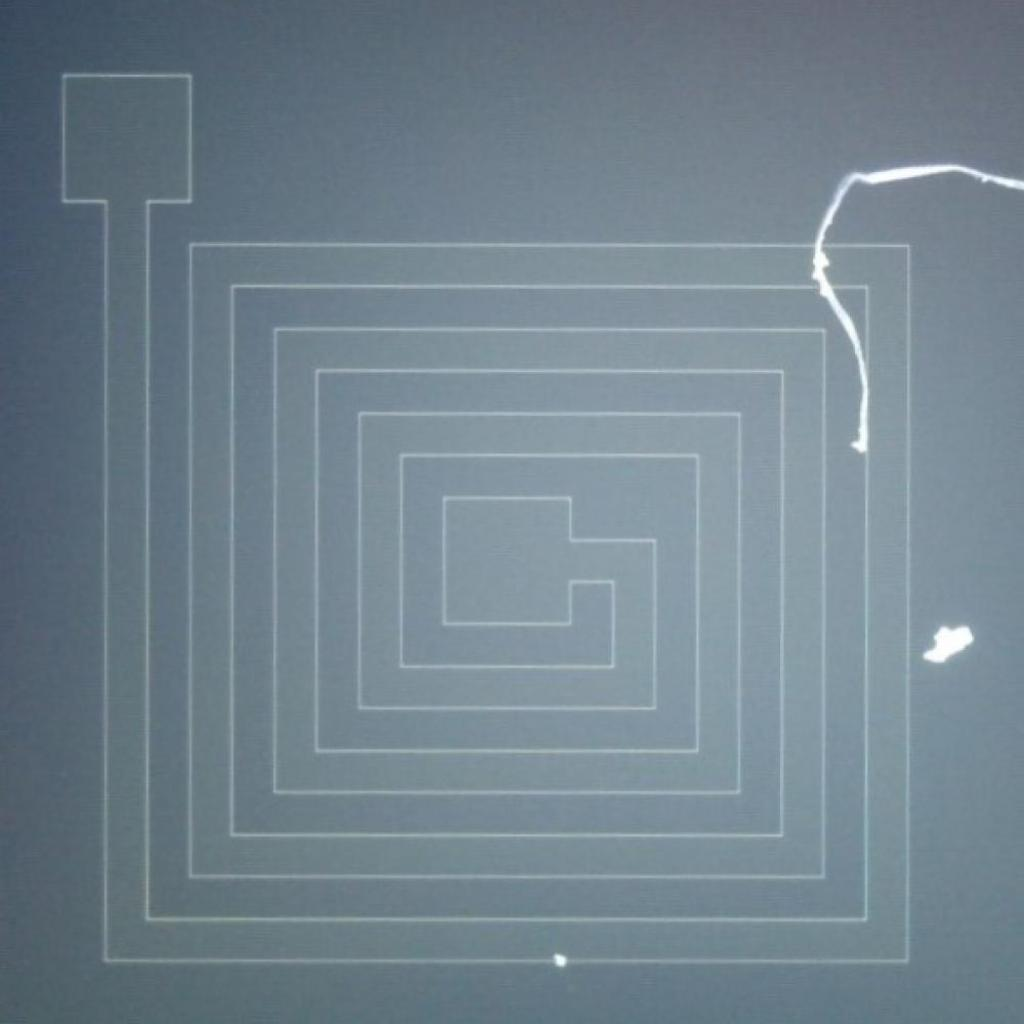Bdot: (934, 626, 968, 662)
curve: (816, 290, 856, 327), (802, 248, 840, 284), (846, 418, 880, 454), (933, 156, 967, 186), (850, 386, 881, 417), (902, 156, 934, 186), (839, 162, 871, 191), (871, 160, 901, 189), (820, 192, 850, 219), (968, 165, 996, 193), (998, 167, 1022, 197), (810, 221, 838, 245), (839, 329, 864, 353), (850, 361, 872, 384)
dot: (554, 954, 566, 967)
